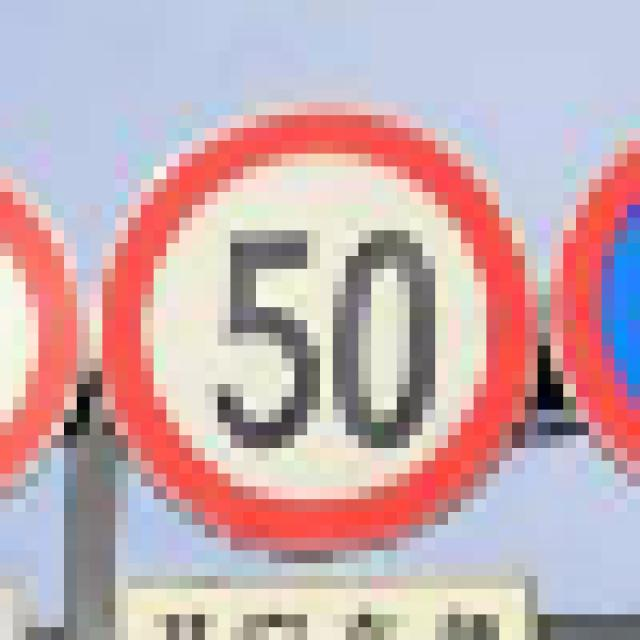Limite-50: (96, 104, 540, 563)
